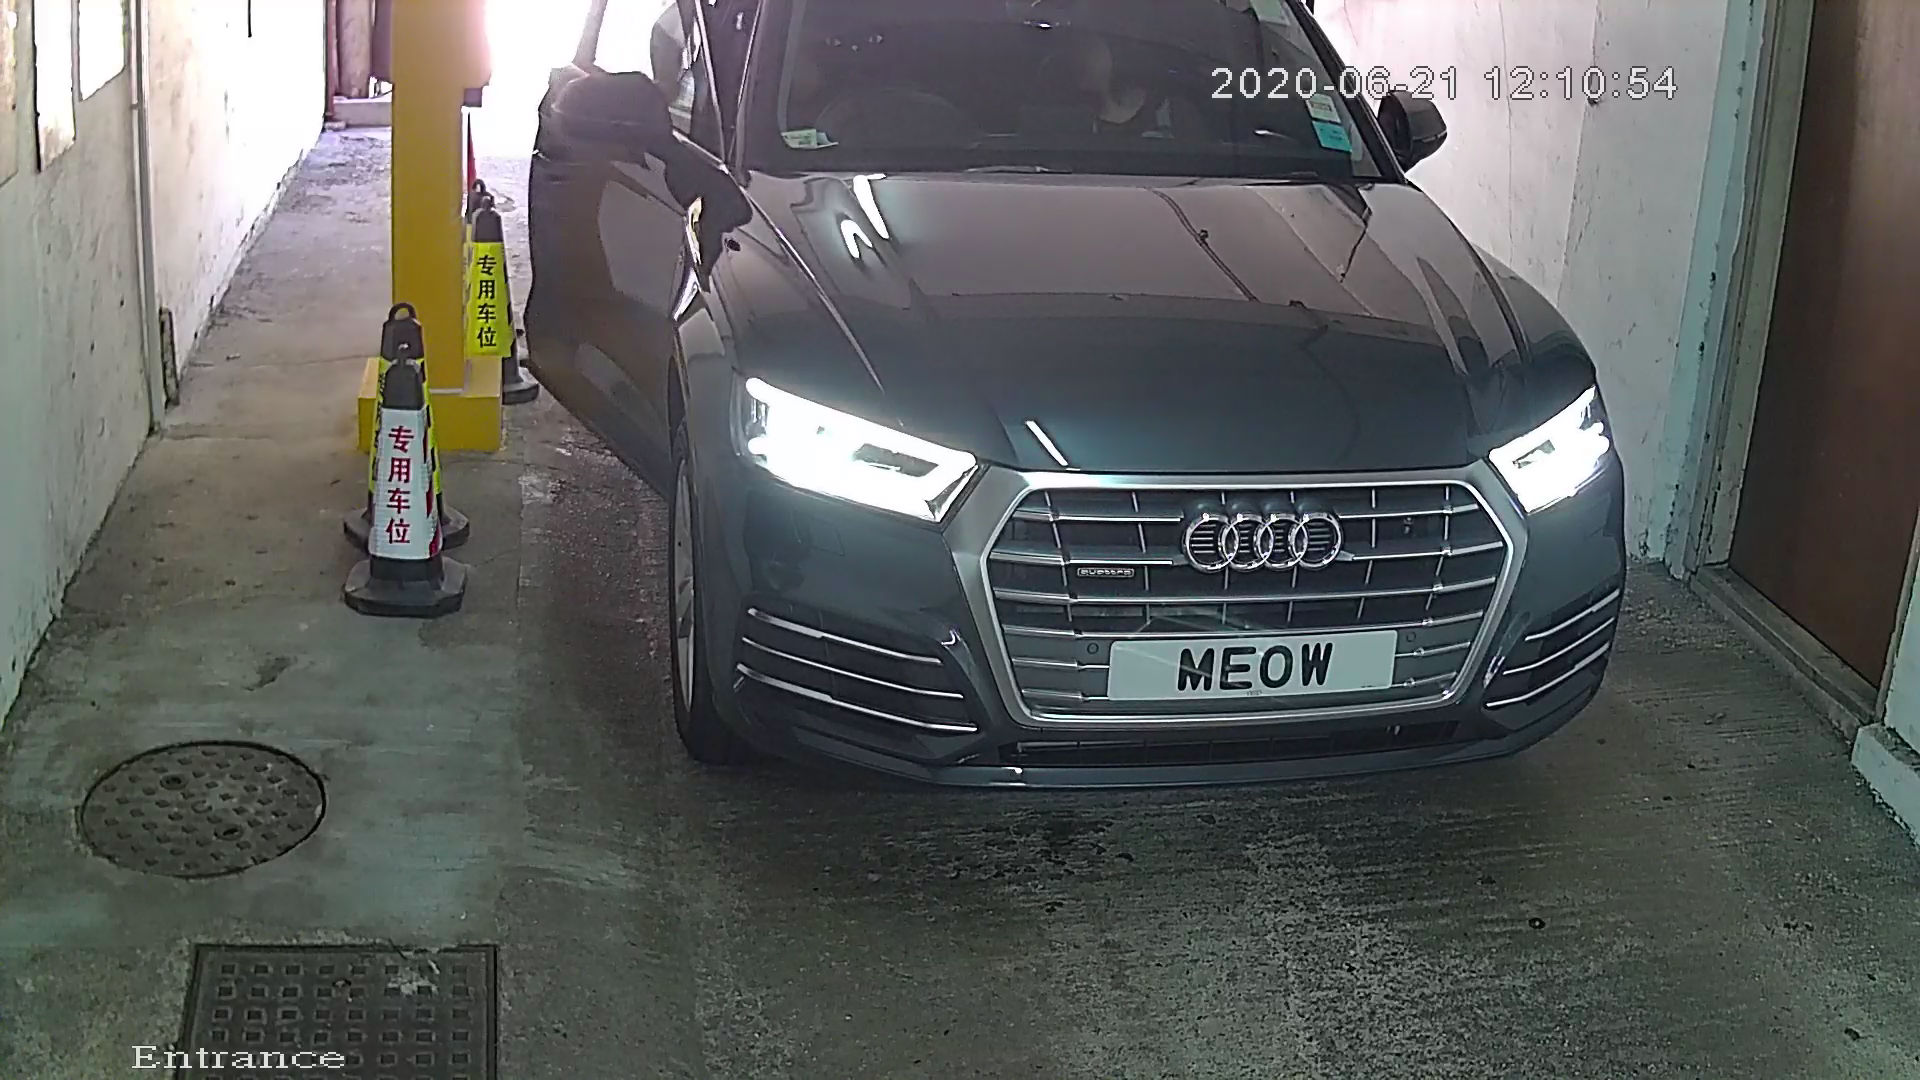privatecar: (524, 1, 1697, 852)
